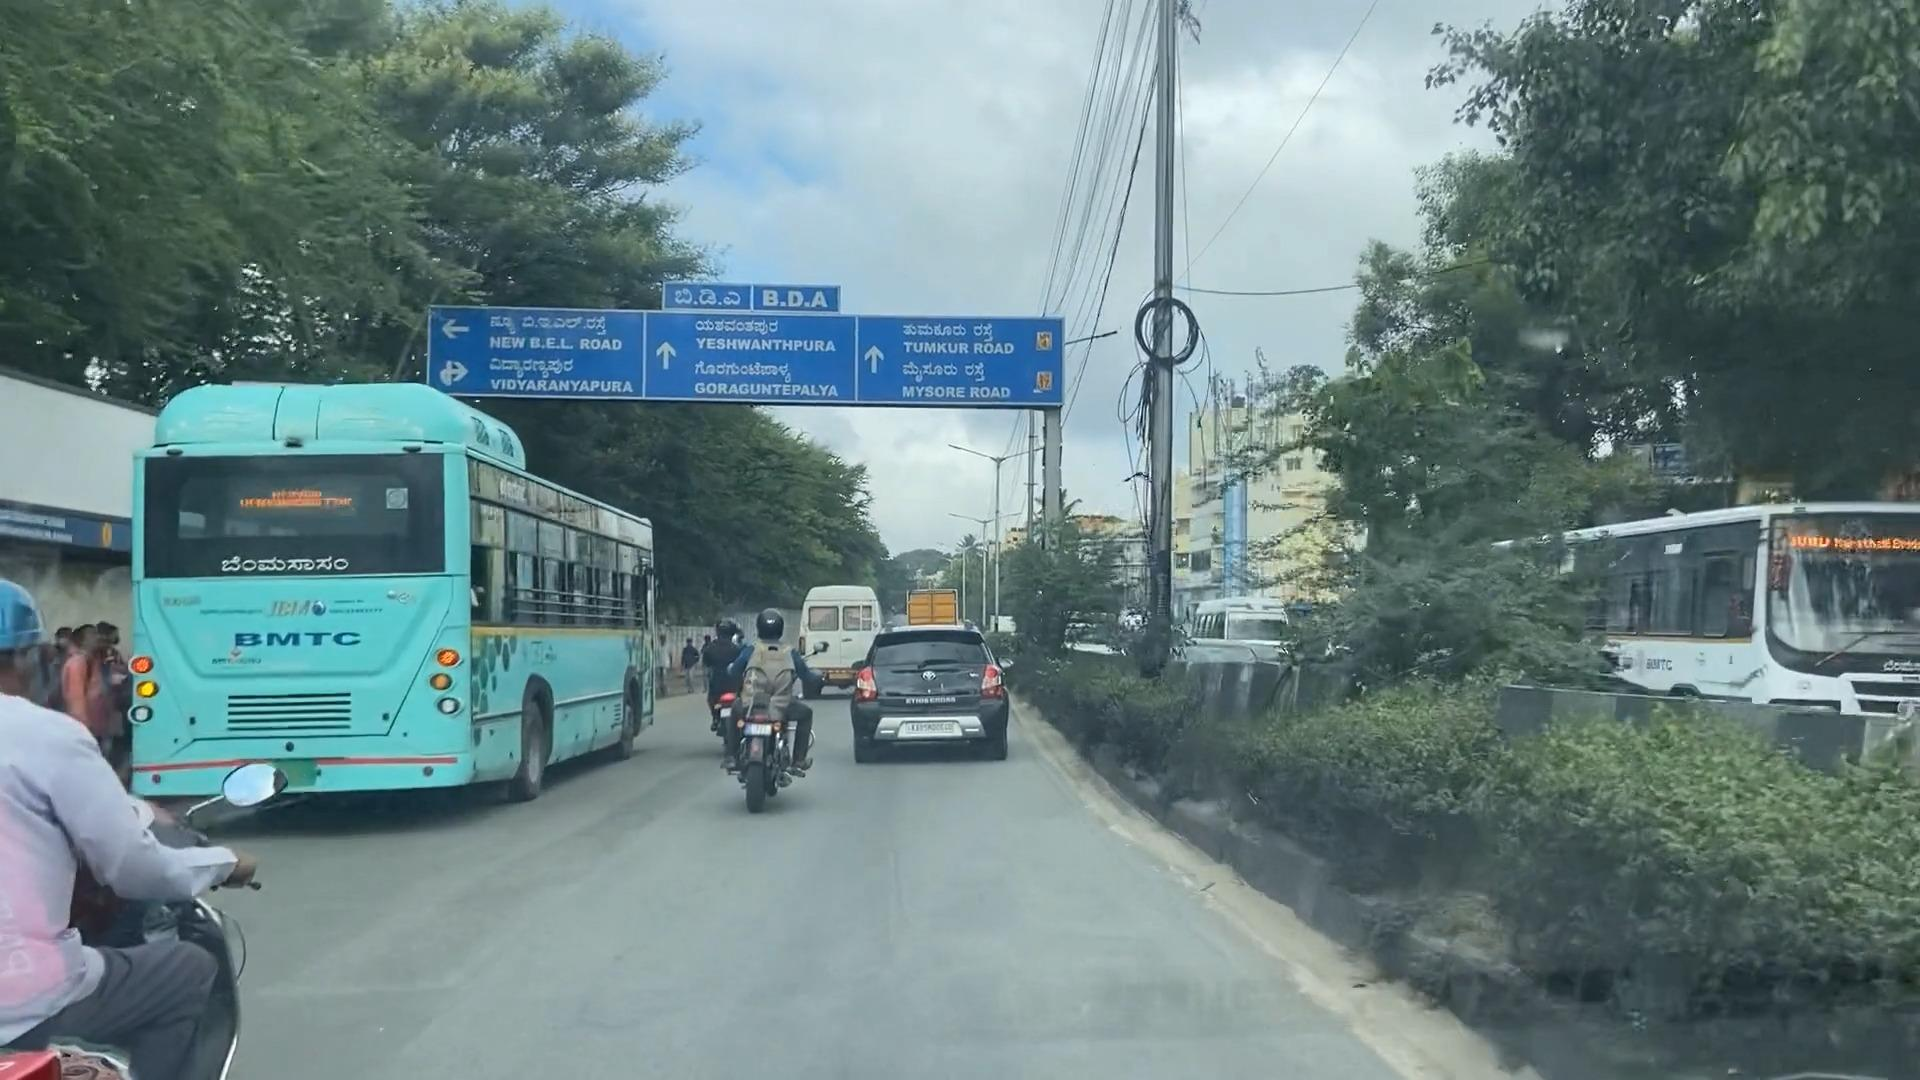HMV: (138, 392, 667, 810)
LMV: (861, 628, 1007, 770), (728, 617, 807, 814)
